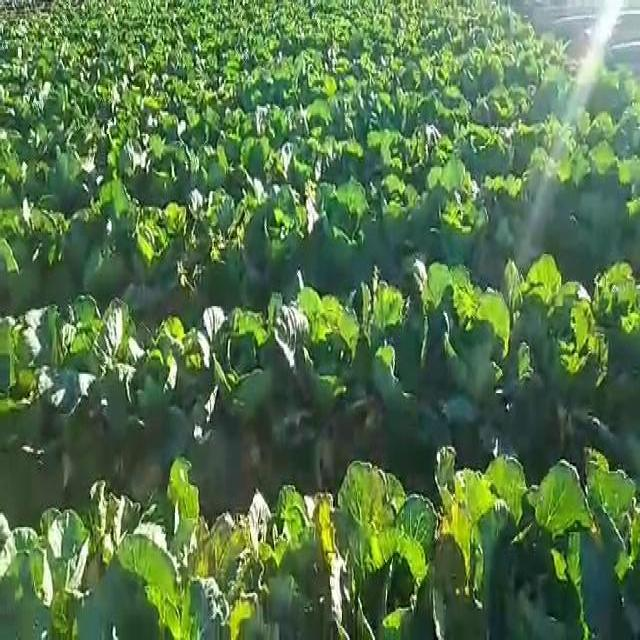Cabbage: (318, 459, 431, 640), (526, 454, 630, 640), (436, 445, 514, 640), (144, 493, 239, 634), (535, 273, 615, 423), (1, 513, 93, 640), (245, 492, 318, 640), (280, 276, 354, 416), (368, 266, 436, 411), (454, 274, 512, 409), (70, 170, 136, 287), (121, 334, 191, 436), (211, 302, 272, 416), (0, 195, 62, 290), (318, 172, 376, 263), (432, 172, 488, 264), (371, 169, 427, 250), (72, 294, 128, 374), (133, 198, 190, 272), (255, 190, 312, 256), (1, 310, 54, 370), (603, 258, 640, 342), (196, 182, 238, 255)
